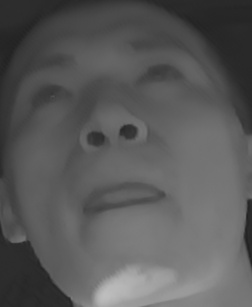eye: (135, 56, 190, 95), (25, 74, 74, 112)
mouth: (78, 164, 171, 229)
